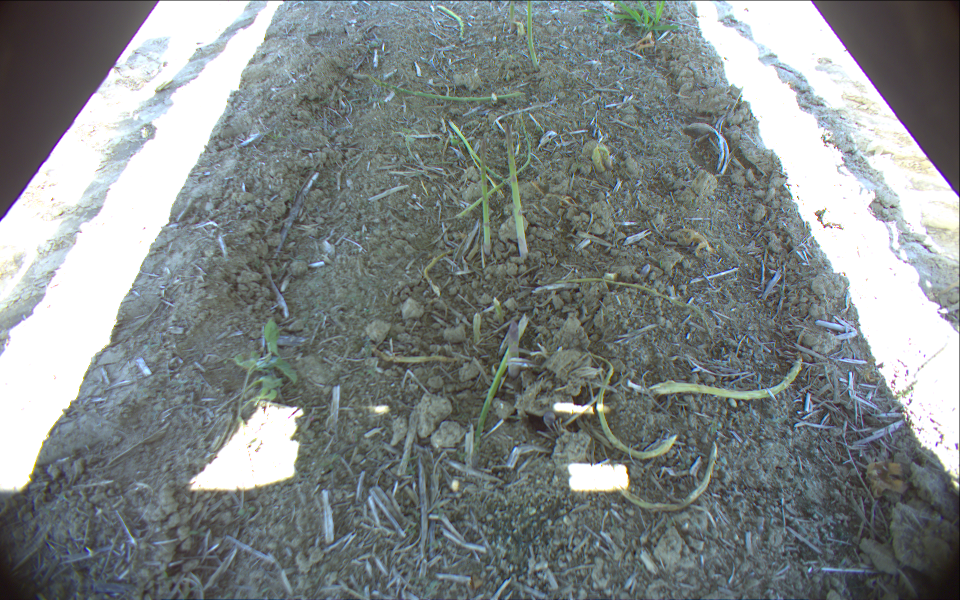aspa: (503, 129, 533, 260), (471, 129, 495, 259), (524, 1, 544, 71), (504, 315, 519, 383)
